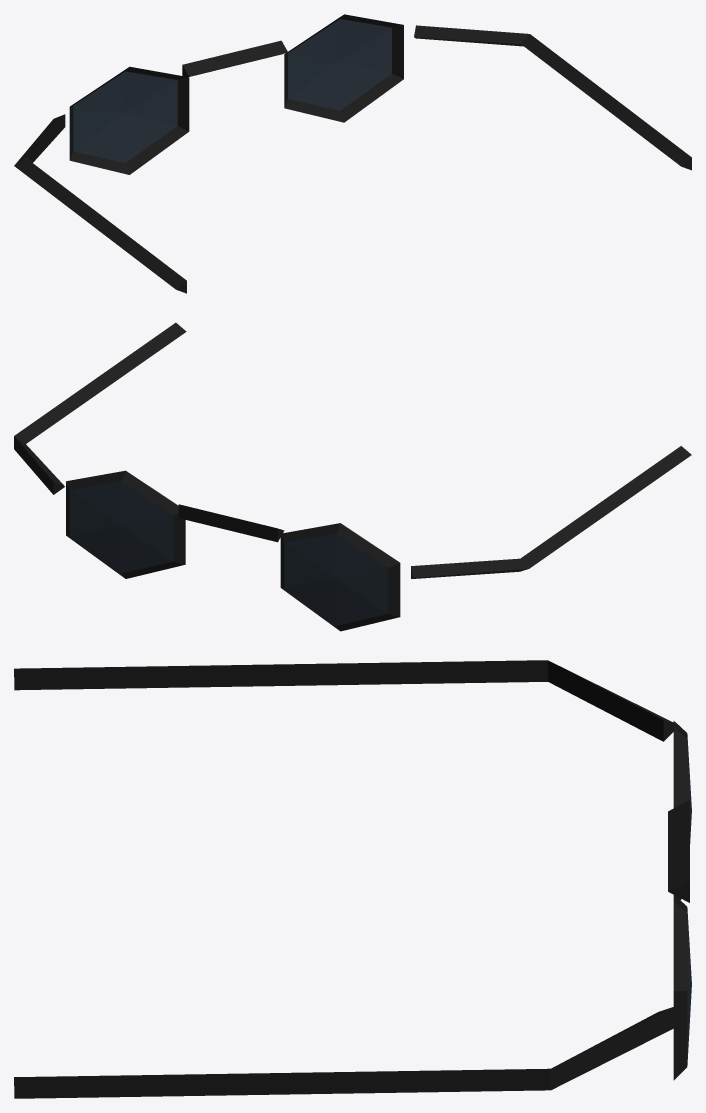
File: lwf_sunglasses_male_v1.glb
3 views of the same model, one above another, from view 1: azimuth 30°, elevation 25°; view 2: azimuth 150°, elevation 25°; view 3: azimuth 270°, elevation 25° (orthographic). The views are drawn at different scales.
Visible parts, largest first — view 1: LWF_Sunglasses; view 2: LWF_Sunglasses; view 3: LWF_Sunglasses.
Part boxes in pixels (x1,y1,x2,y2): LWF_Sunglasses: (14,14,691,293); LWF_Sunglasses: (14,322,691,631); LWF_Sunglasses: (14,660,691,1098).
Size of the model in its own units: 0.2147 by 0.0431 by 0.1474.
1 material, 1 textured.
